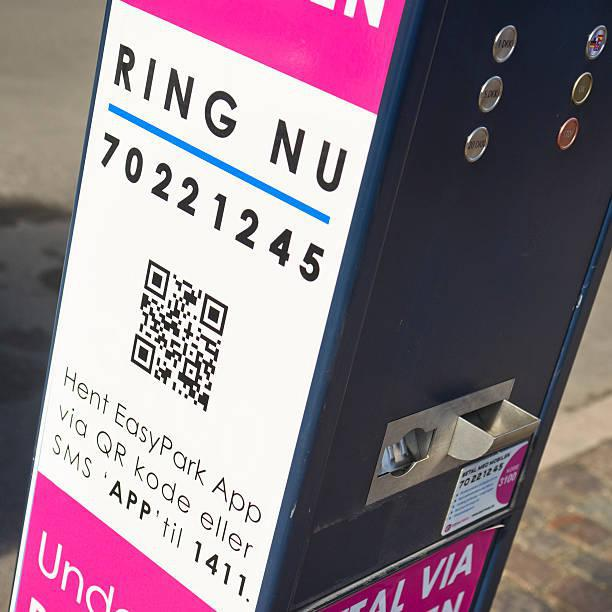Finder pattern: (195, 290, 235, 337), (122, 333, 161, 378), (138, 257, 175, 302)
